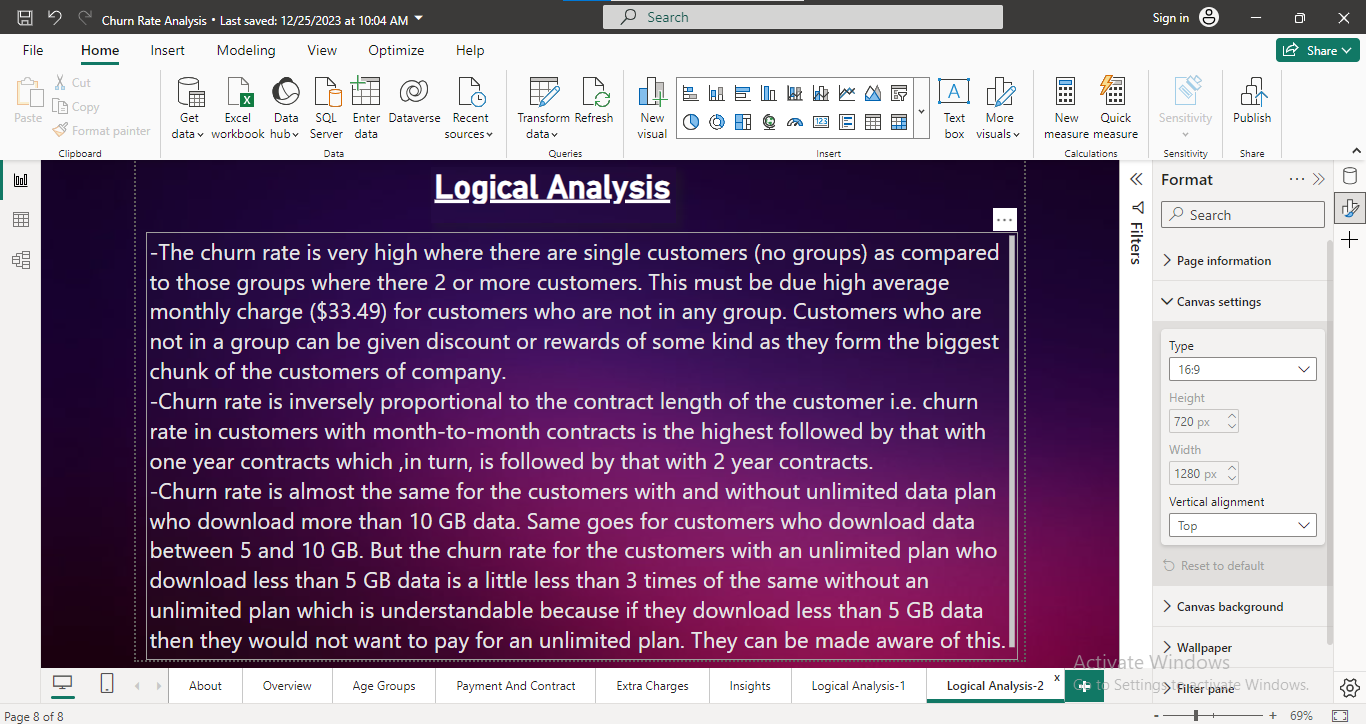

What the dashboard file says about the page in this screenshot:
{"tool":"powerbi","page":{"name":"Logical Analysis-2","canvas":[1280,720],"ordinal":7},"visuals":[{"type":"textbox","title":"Logical Analysis","box":[424.8,10.1,352.8,80.6],"z":0},{"type":"textbox","box":[14.4,103.7,1255.7,616.3],"z":1000}]}

Visuals, with their boxes on the page's 1280x720 design canvas (x1, y1, x2, y2). These are canvas units, not pixel positions in the 1366x724 screenshot, which may show the page scaled, cropped or inside an application window:
"Logical Analysis" textbox: {"left": 425, "top": 10, "right": 778, "bottom": 91}
textbox: {"left": 14, "top": 104, "right": 1270, "bottom": 720}
